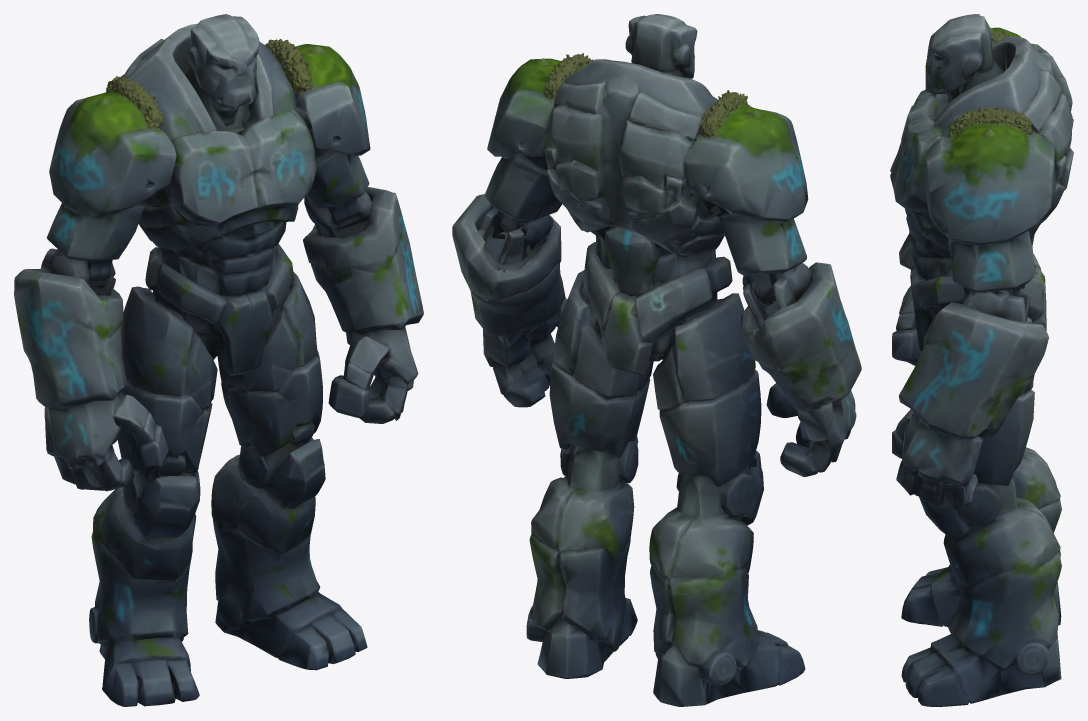
Rendered from detail_7.glb.
The picture shows the model from 3 angles, left to right: view 1: azimuth 30°, elevation 25°; view 2: azimuth 150°, elevation 25°; view 3: azimuth 270°, elevation 25°; orthographic projection.
Size of the model in its own units: 0.6134 by 1 by 0.2664.
Materials: 1 (1 with a texture image).
